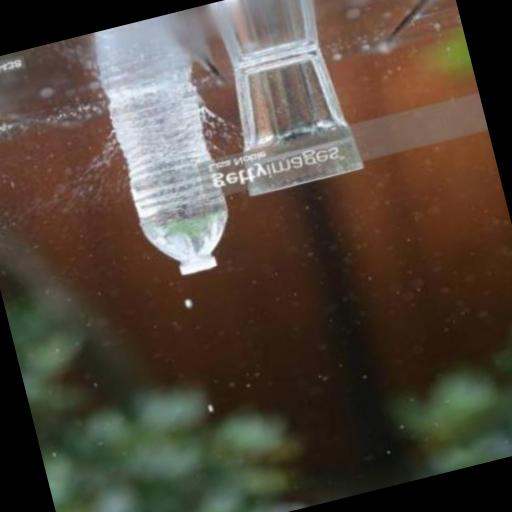Coca: (98, 64, 251, 292)
